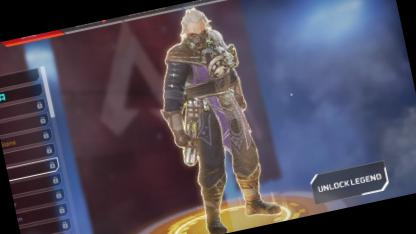Target: (141, 0, 265, 196)
